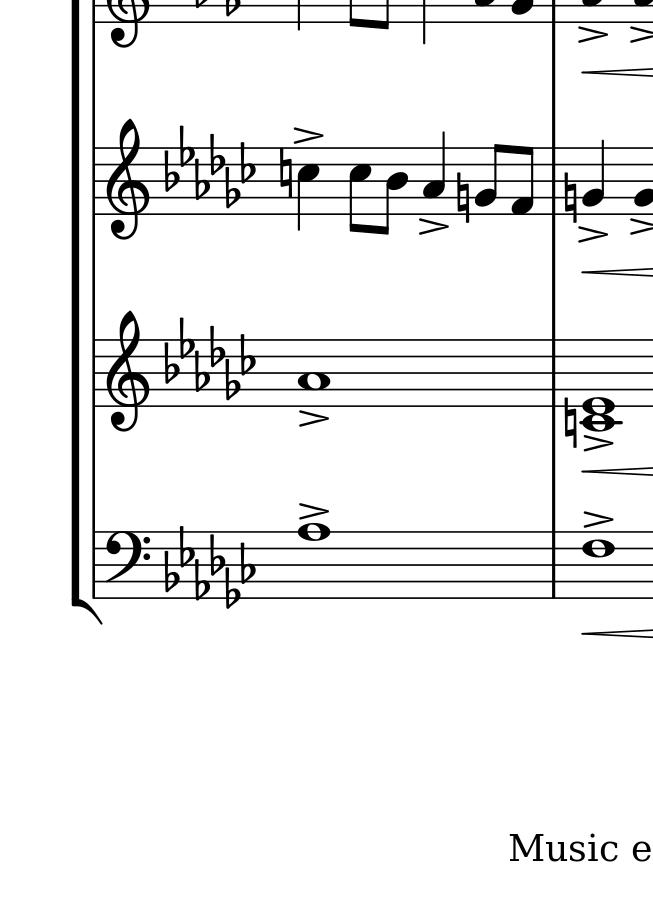1_-2_0: (580, 338, 623, 433)
1_3: (297, 339, 331, 407)
1_6: (581, 530, 616, 602)
1_8: (296, 522, 332, 603)
4_2: (580, 137, 607, 218)
4_3: (421, 130, 447, 214), (631, 1, 653, 23)
4_5: (295, 147, 320, 233)
8_1: (509, 144, 535, 217)
8_2: (473, 142, 504, 215)
8_4: (377, 146, 408, 238)
8_5: (347, 145, 372, 235)
Accent_above: (575, 24, 611, 44), (581, 433, 617, 453), (292, 126, 327, 146), (580, 509, 614, 529), (416, 218, 451, 235), (297, 500, 328, 519), (297, 409, 329, 427), (579, 225, 606, 244), (628, 216, 653, 233)
Fclef: (101, 530, 151, 600)
G_F: (162, 124, 257, 211), (162, 524, 259, 608), (163, 314, 256, 400)
Gclef: (104, 118, 152, 244), (104, 309, 151, 435)
Natural: (562, 395, 579, 450), (455, 170, 471, 225), (562, 170, 578, 224), (277, 147, 292, 201)
Single_barline: (545, 340, 562, 407), (545, 531, 562, 598), (86, 533, 102, 597), (547, 147, 561, 215), (87, 342, 101, 406), (87, 150, 101, 212)
